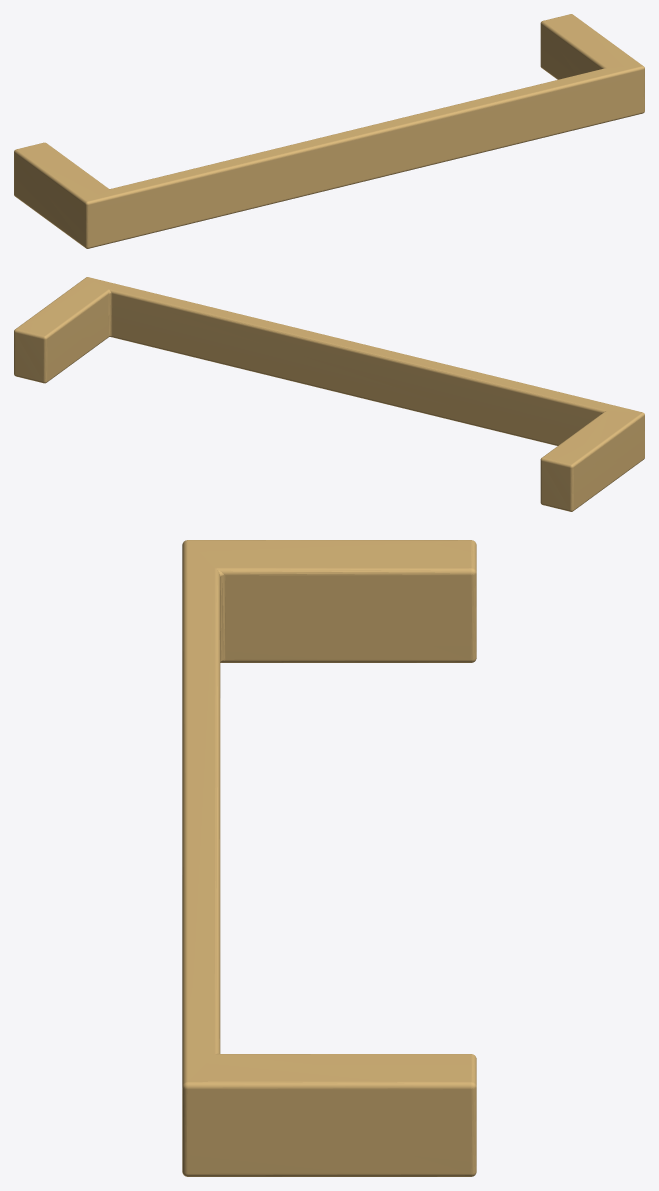
File: eurofit-h-62501-128rg-v3.glb
3 views of the same model, one above another, from view 1: azimuth 30°, elevation 25°; view 2: azimuth 150°, elevation 25°; view 3: azimuth 270°, elevation 25° (orthographic). The views are drawn at different scales.
Parts seen in each view (by area): view 1: Continuous U grip and legs; view 2: Continuous U grip and legs; view 3: Continuous U grip and legs.
Part boxes in pixels (left/top/right/bottom): Continuous U grip and legs: left=14, top=14, right=644, bottom=248; Continuous U grip and legs: left=14, top=277, right=644, bottom=511; Continuous U grip and legs: left=182, top=540, right=476, bottom=1176.
Bounding box in the file's own units: 0.136 × 0.011 × 0.031.
